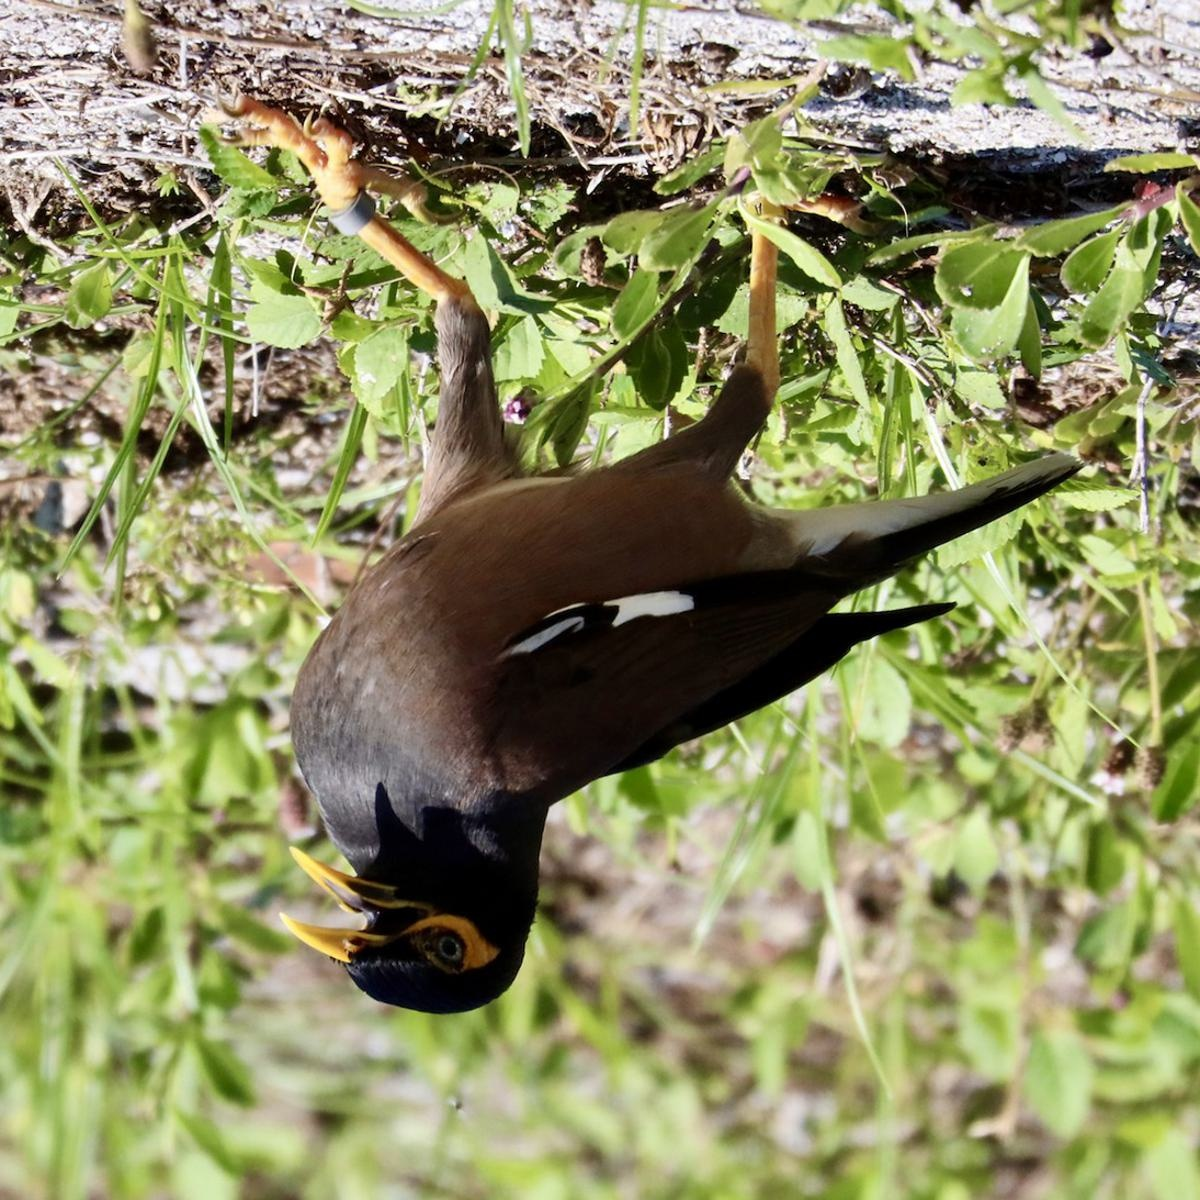myna: (265, 227, 1035, 1030)
